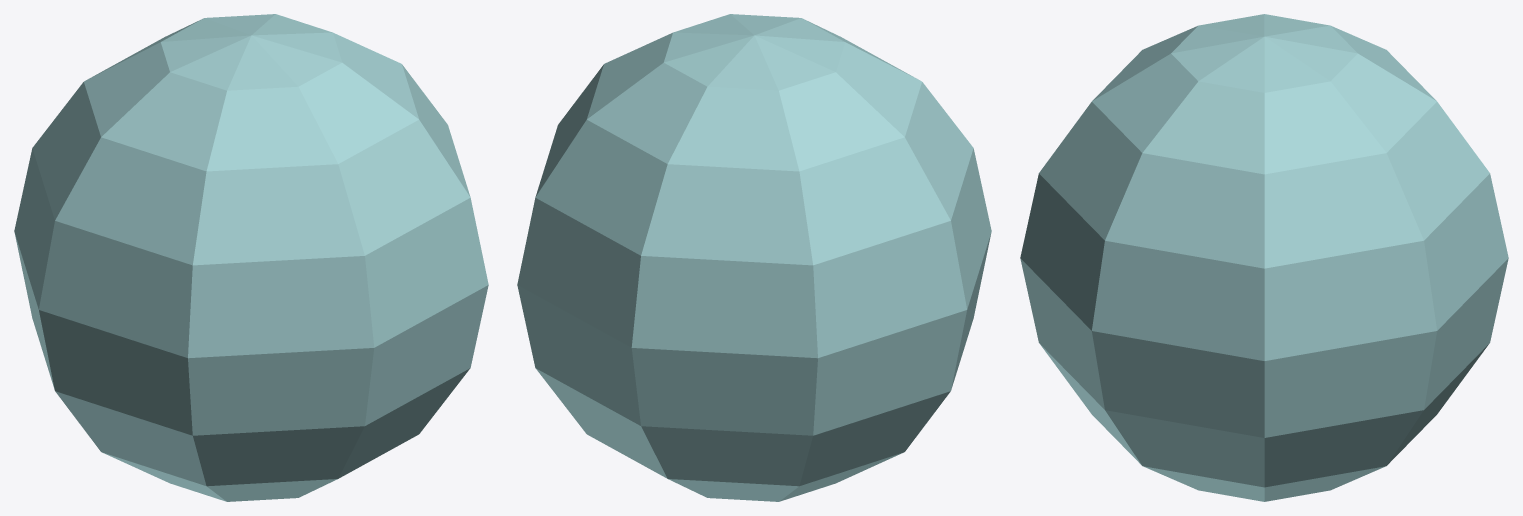
The model's file is parrt5_2.glb.
3 views of the same model, side by side, from view 1: azimuth 30°, elevation 25°; view 2: azimuth 150°, elevation 25°; view 3: azimuth 270°, elevation 25° (orthographic).
Visible parts, largest first — view 1: sky; view 2: sky; view 3: sky.
Boxes of the visible parts, left/top/right/bottom form: sky: left=14, top=14, right=488, bottom=501; sky: left=517, top=14, right=991, bottom=501; sky: left=1020, top=14, right=1508, bottom=501.
Bounding box in the file's own units: 60 × 60 × 60.
